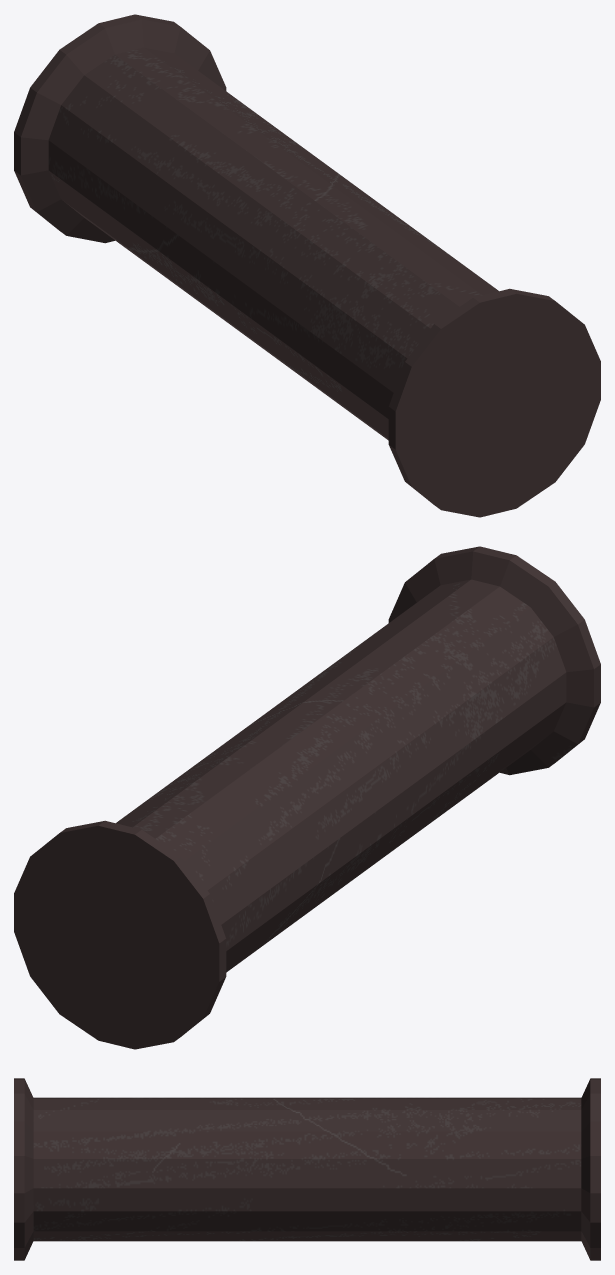
File: pipe.obj
3 views of the same model, one above another, from view 1: azimuth 30°, elevation 25°; view 2: azimuth 150°, elevation 25°; view 3: azimuth 270°, elevation 25° (orthographic). The views are drawn at different scales.
Parts seen in each view (by area): view 1: Cube; view 2: Cube; view 3: Cube.
Part boxes in pixels (x1=…): Cube: x1=14, y1=14, x2=600, y2=517; Cube: x1=14, y1=546, x2=600, y2=1049; Cube: x1=14, y1=1078, x2=600, y2=1260.
Size of the model in its own units: 1.23 by 1.23 by 3.95.
Materials: 1 (1 with a texture image).
